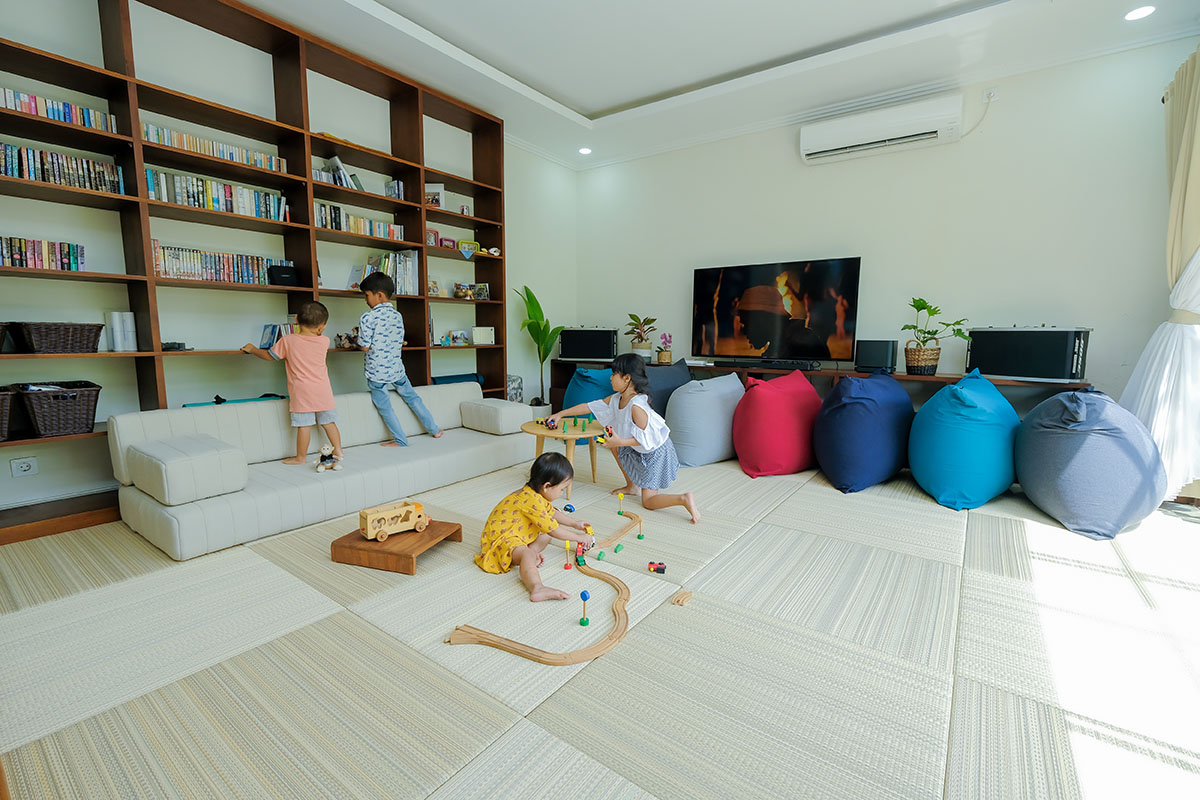buku: (5, 92, 126, 128), (4, 157, 121, 190), (1, 231, 83, 271), (145, 127, 216, 151), (323, 209, 394, 233), (155, 245, 198, 281), (204, 246, 247, 282), (152, 167, 195, 203), (209, 176, 252, 212), (257, 185, 300, 221)
person: (544, 349, 707, 531), (476, 443, 589, 620), (259, 296, 347, 466), (347, 276, 435, 446)
tanaman: (514, 283, 561, 399), (901, 294, 942, 373), (618, 308, 660, 361)
